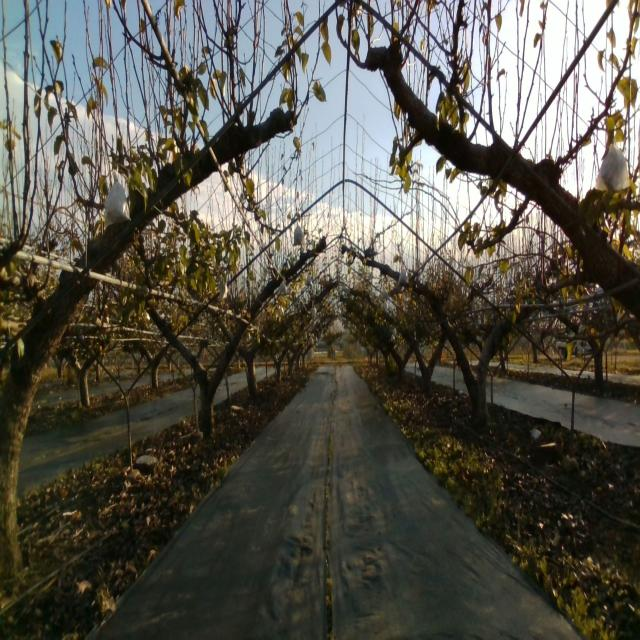pearbags: (595, 138, 634, 192), (101, 168, 131, 229), (291, 223, 305, 247), (397, 267, 410, 287)
